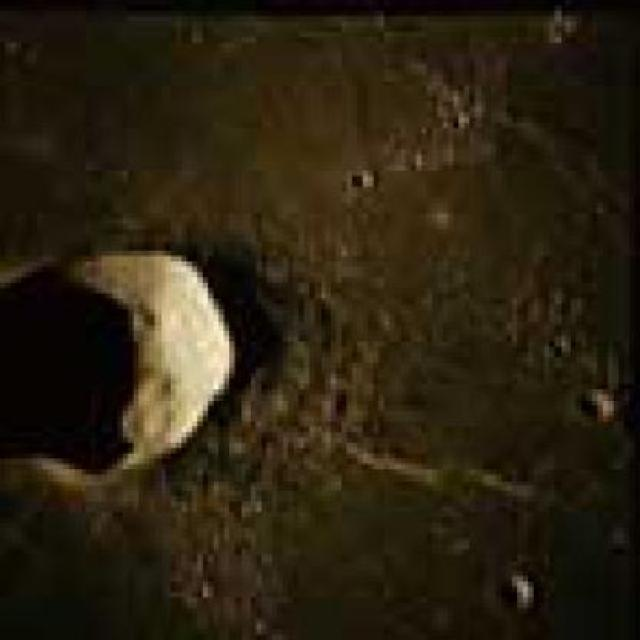crater: (0, 248, 232, 474)
